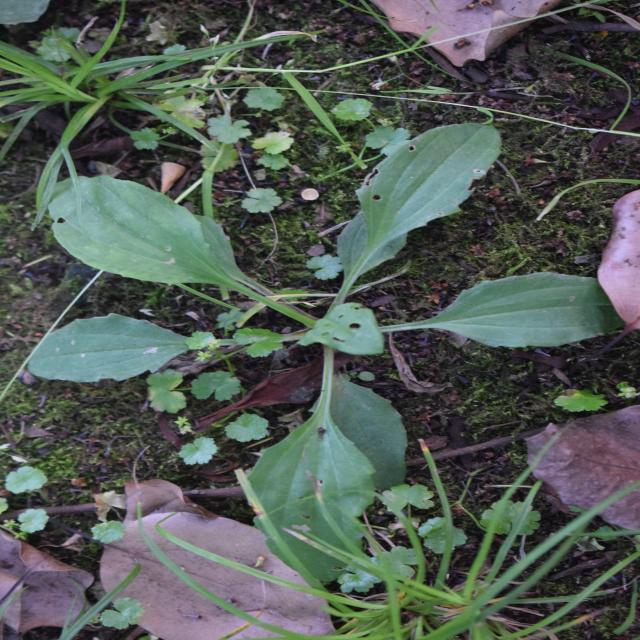plantain: (93, 59, 507, 572)
